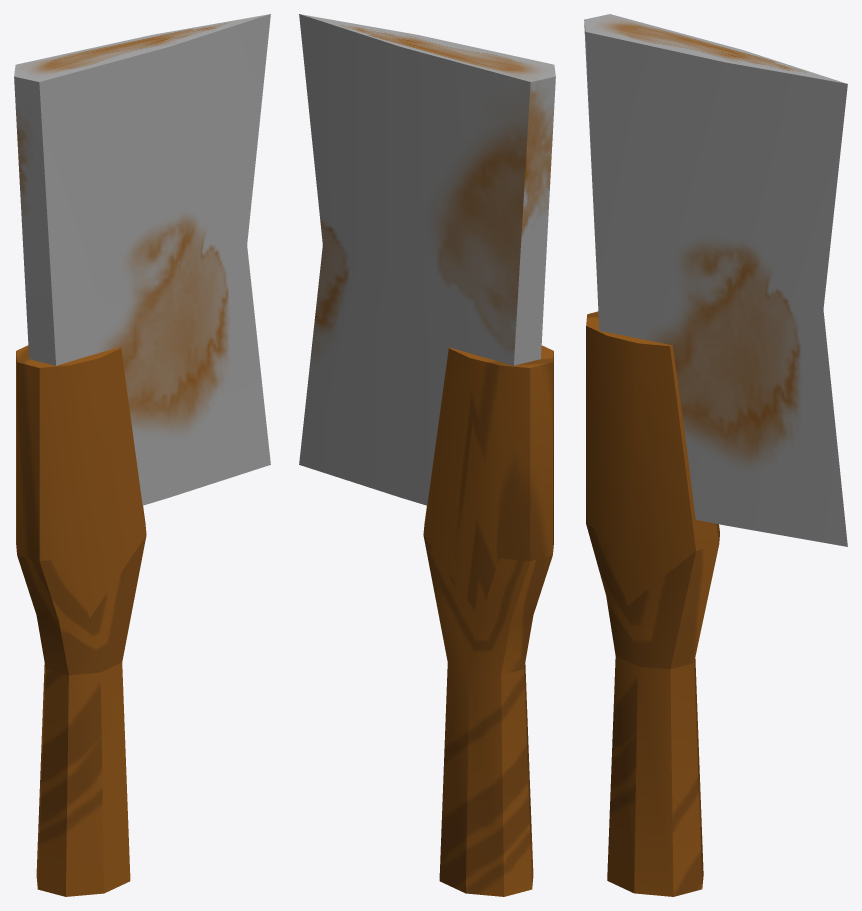
The model's file is cutelo.fbx.
3 views of the same model, side by side, from view 1: azimuth 30°, elevation 25°; view 2: azimuth 150°, elevation 25°; view 3: azimuth 330°, elevation 25° (orthographic). The views are drawn at different scales.
Parts seen in each view (by area): view 1: cutelo; view 2: cutelo; view 3: cutelo.
Boxes of the visible parts, x1,y1,x2,y2 form: cutelo: [14, 14, 270, 896]; cutelo: [299, 14, 555, 896]; cutelo: [584, 14, 847, 896].
Bounding box in the file's own units: 14.19 × 43.21 × 3.96.
